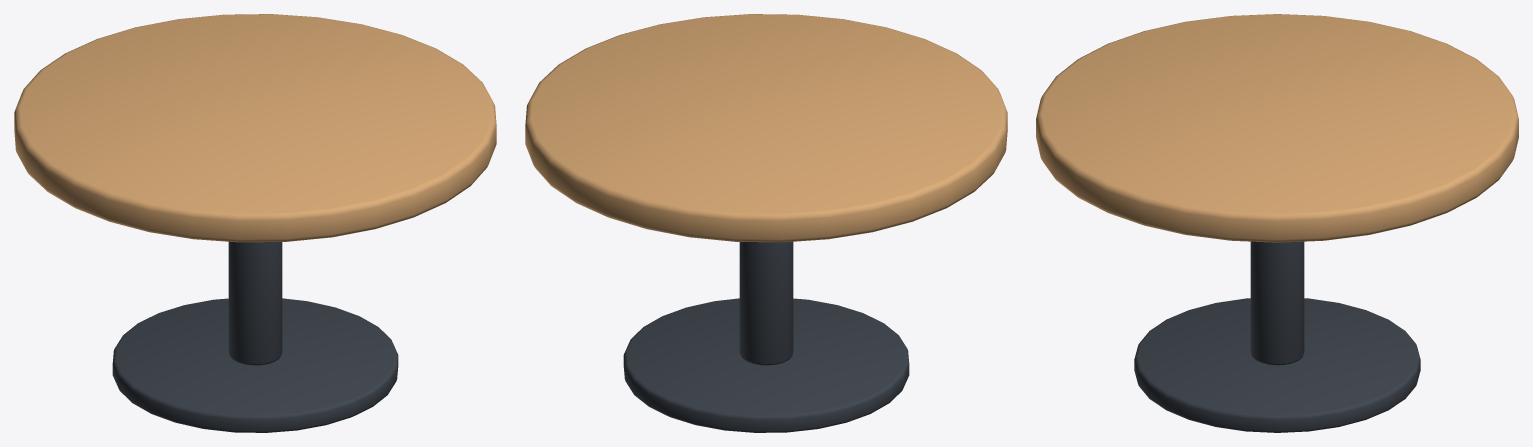
Rendered from cafe-table.glb.
The picture shows the model from 3 angles, left to right: view 1: azimuth 30°, elevation 25°; view 2: azimuth 150°, elevation 25°; view 3: azimuth 270°, elevation 25°; orthographic projection.
Parts seen in each view (by area): view 1: cafeTable · Natural oak, cafeTable · Graphite metal; view 2: cafeTable · Natural oak, cafeTable · Graphite metal; view 3: cafeTable · Natural oak, cafeTable · Graphite metal.
Boxes of the visible parts, x1,y1,x2,y2 form: cafeTable · Natural oak: (14, 14, 496, 242); cafeTable · Graphite metal: (112, 241, 398, 432); cafeTable · Natural oak: (525, 14, 1007, 242); cafeTable · Graphite metal: (623, 241, 909, 432); cafeTable · Natural oak: (1036, 14, 1518, 242); cafeTable · Graphite metal: (1134, 241, 1420, 432).
Size of the model in its own units: 1.35 by 0.8025 by 1.35.
